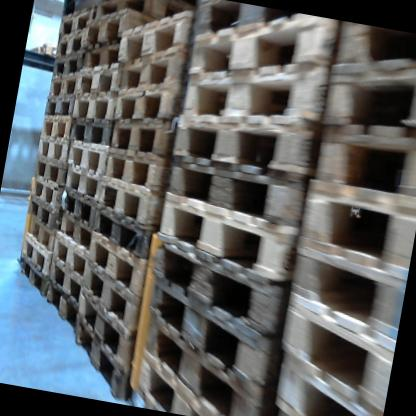pallet: (138, 229, 307, 351), (133, 276, 292, 395), (271, 277, 401, 416), (174, 42, 337, 142), (181, 0, 342, 101), (134, 312, 284, 416), (160, 146, 335, 234), (149, 190, 306, 288), (282, 227, 411, 343), (166, 100, 339, 182), (306, 104, 416, 219), (294, 177, 416, 275), (324, 37, 416, 145), (263, 340, 388, 416), (109, 0, 195, 83), (130, 348, 231, 416), (72, 251, 153, 335), (68, 285, 144, 373), (79, 226, 160, 307), (67, 321, 142, 402), (193, 0, 307, 53), (113, 69, 201, 136), (327, 22, 416, 86), (116, 32, 195, 103), (93, 166, 171, 236), (86, 198, 164, 263), (81, 6, 179, 57), (106, 104, 175, 171), (102, 135, 172, 197), (67, 51, 133, 103), (46, 229, 94, 289), (39, 281, 92, 333), (74, 29, 126, 78), (63, 140, 123, 179), (71, 89, 129, 129), (57, 187, 103, 234), (20, 223, 58, 276), (10, 253, 52, 300), (21, 206, 61, 255), (61, 170, 118, 203), (44, 256, 87, 299), (68, 117, 125, 149), (52, 211, 101, 248), (24, 186, 64, 228), (48, 42, 88, 83), (24, 175, 66, 213), (31, 129, 77, 163), (93, 0, 145, 29), (57, 0, 95, 37), (28, 152, 72, 182), (35, 109, 75, 140), (54, 23, 84, 64), (47, 69, 84, 99), (40, 91, 77, 117)
